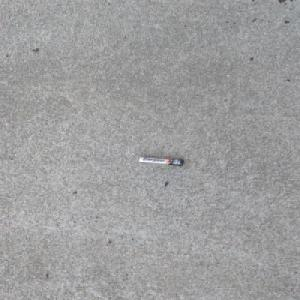Battery: (136, 156, 185, 167)
